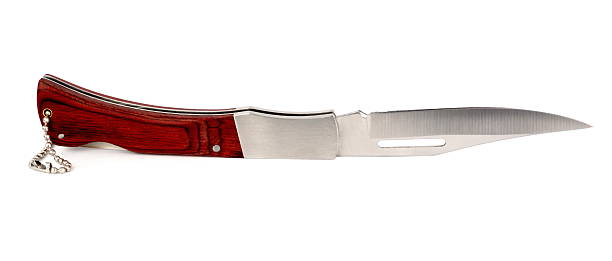knife: (34, 71, 595, 162)
